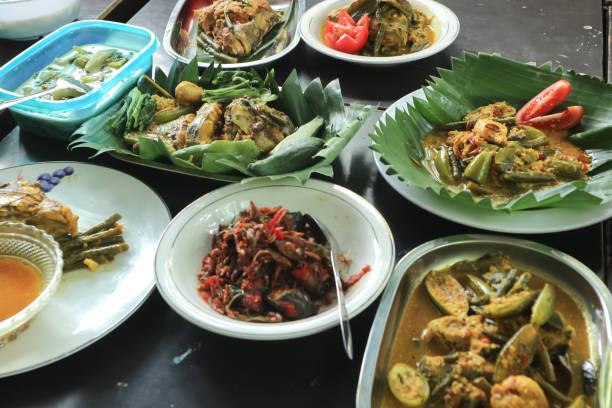Braised Crucian Carp: (366, 224, 612, 408), (152, 178, 391, 341), (373, 77, 609, 233), (104, 89, 370, 182), (298, 0, 457, 65), (162, 0, 306, 70)
